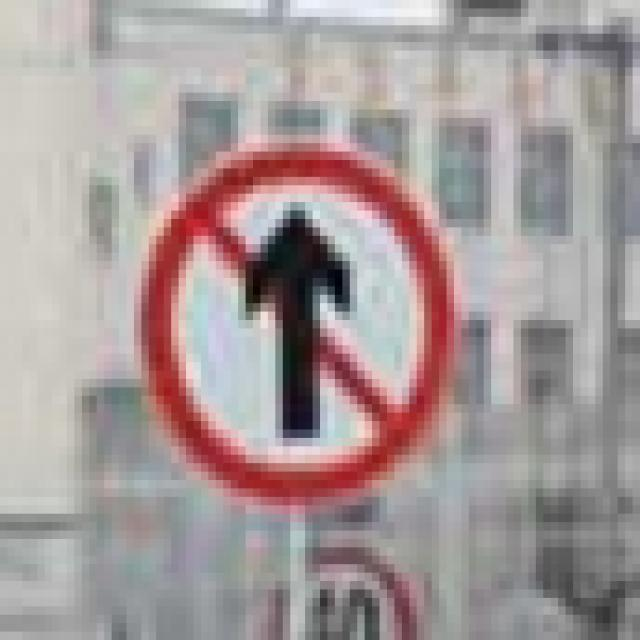Not that Direction: (123, 138, 503, 522)
